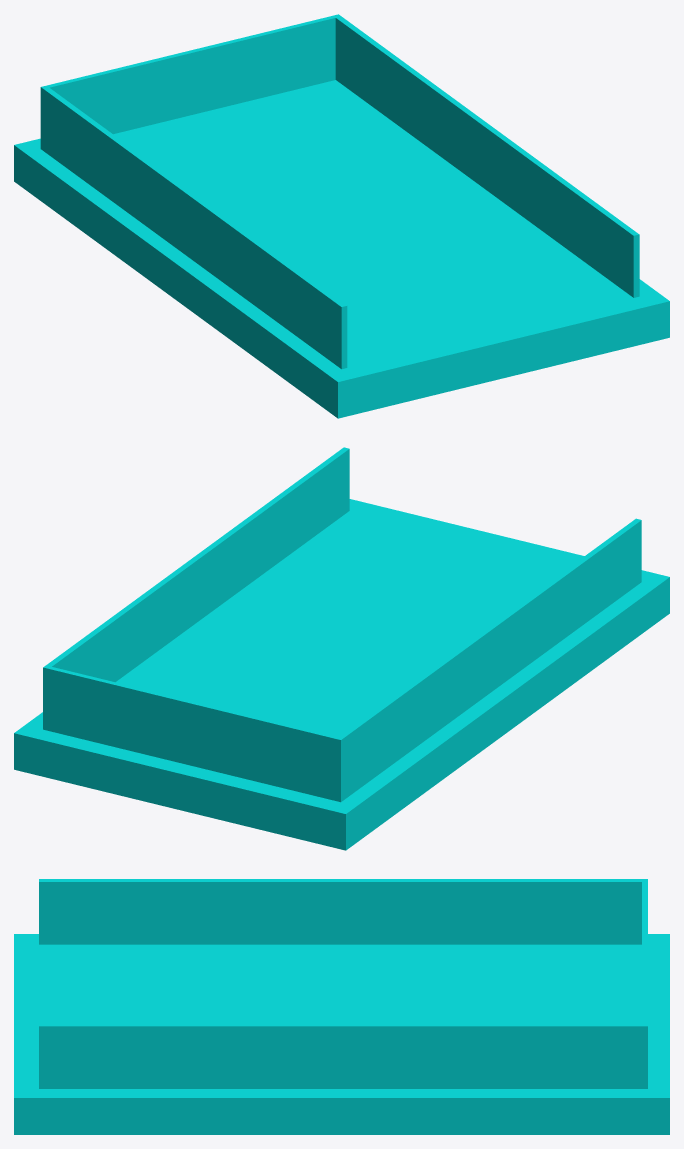
File: SM_Prop_Car_Podium_01_Collision.fbx
The picture shows the model from 3 angles, top to bottom: view 1: azimuth 30°, elevation 25°; view 2: azimuth 150°, elevation 25°; view 3: azimuth 270°, elevation 25°; orthographic projection.
Parts seen in each view (by area): view 1: SM_Prop_Car_Podium_01_Collision; view 2: SM_Prop_Car_Podium_01_Collision; view 3: SM_Prop_Car_Podium_01_Collision.
Part boxes in pixels (box(x1,y1,x2,y2)): SM_Prop_Car_Podium_01_Collision: box(14, 14, 669, 418); SM_Prop_Car_Podium_01_Collision: box(14, 447, 669, 850); SM_Prop_Car_Podium_01_Collision: box(14, 879, 669, 1134).
Bounding box in the file's own units: 399 × 113 × 675.
